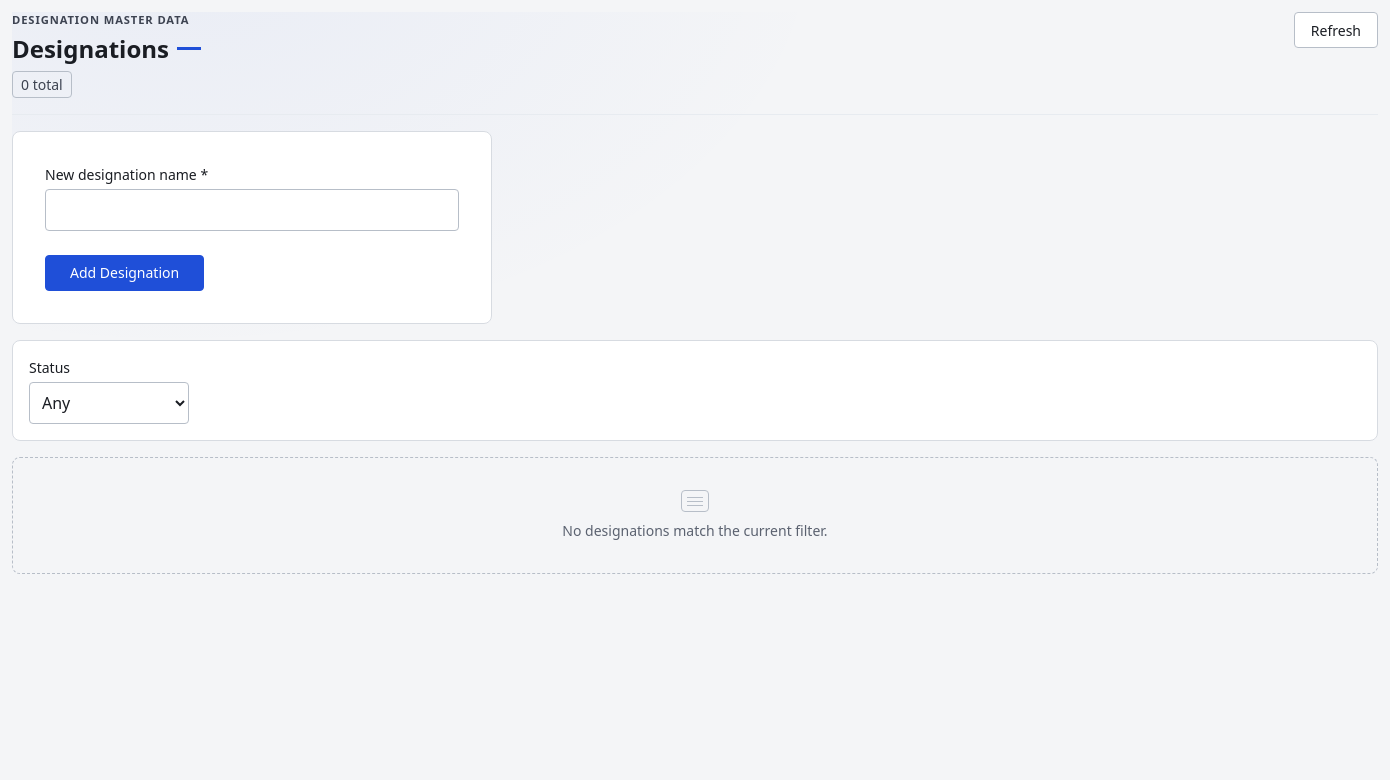
it: DesignationListPage › requires a name before creating
Expected: the text "No designations match the current filter." is shown, [562,520,828,541]
Click the button "Add Designation" at (125, 273), box [45,255,204,291]
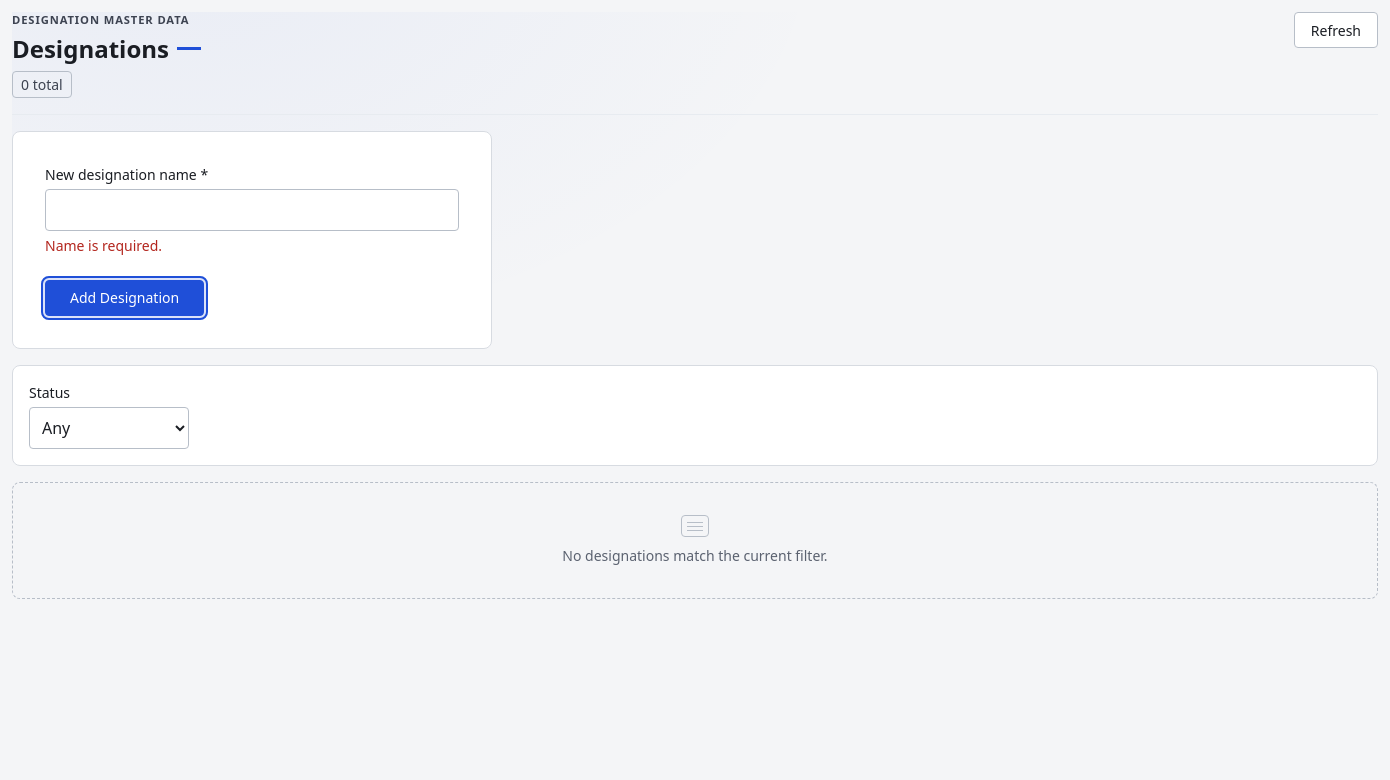
Expected: the text "Name is required." is shown, [45,236,162,255]
